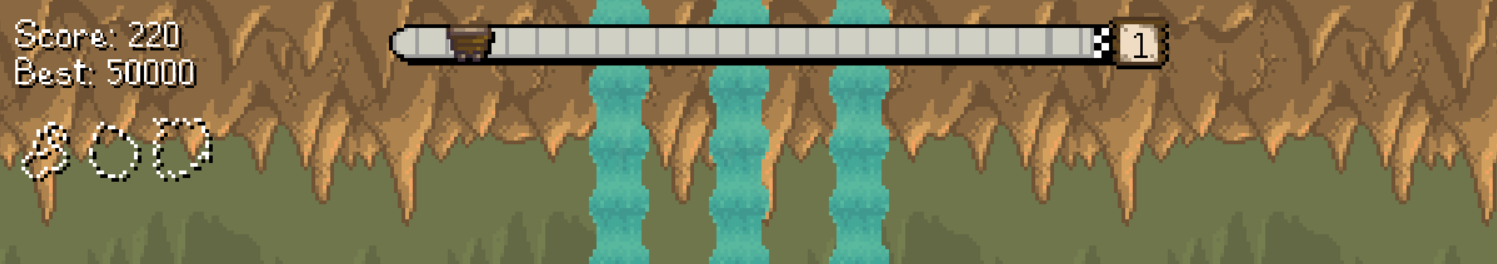score: (125, 17, 183, 55)
